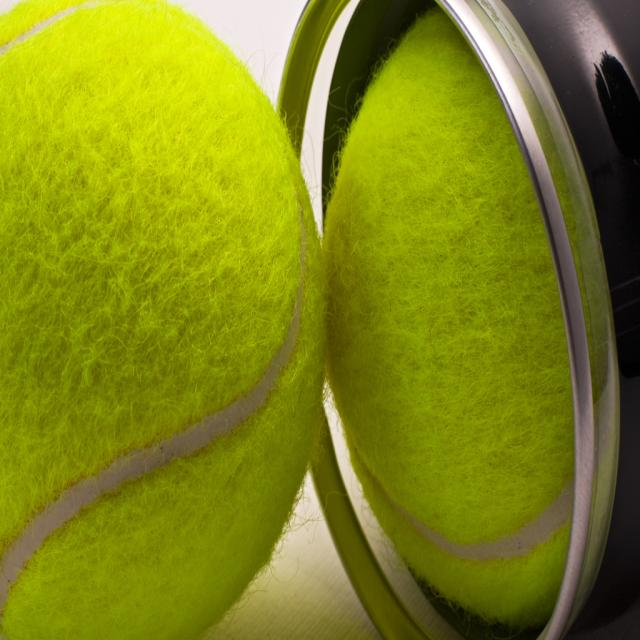Tennis ball: (0, 0, 329, 639), (330, 7, 576, 630)
